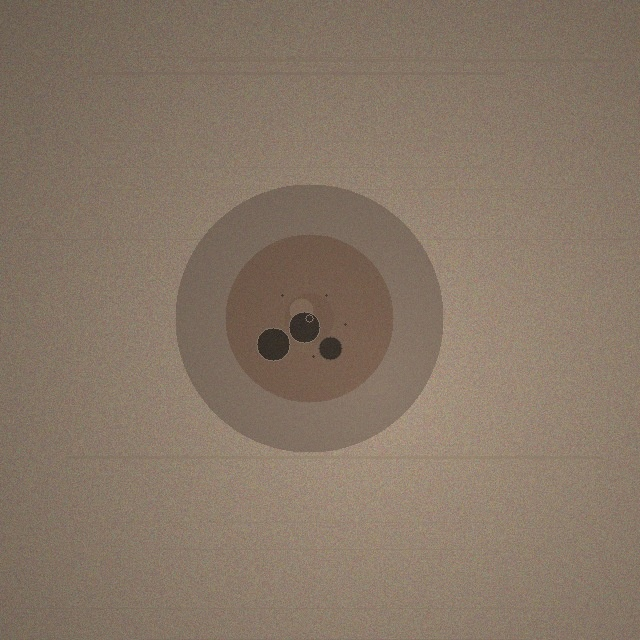shrinkage: (175, 184, 443, 452)
